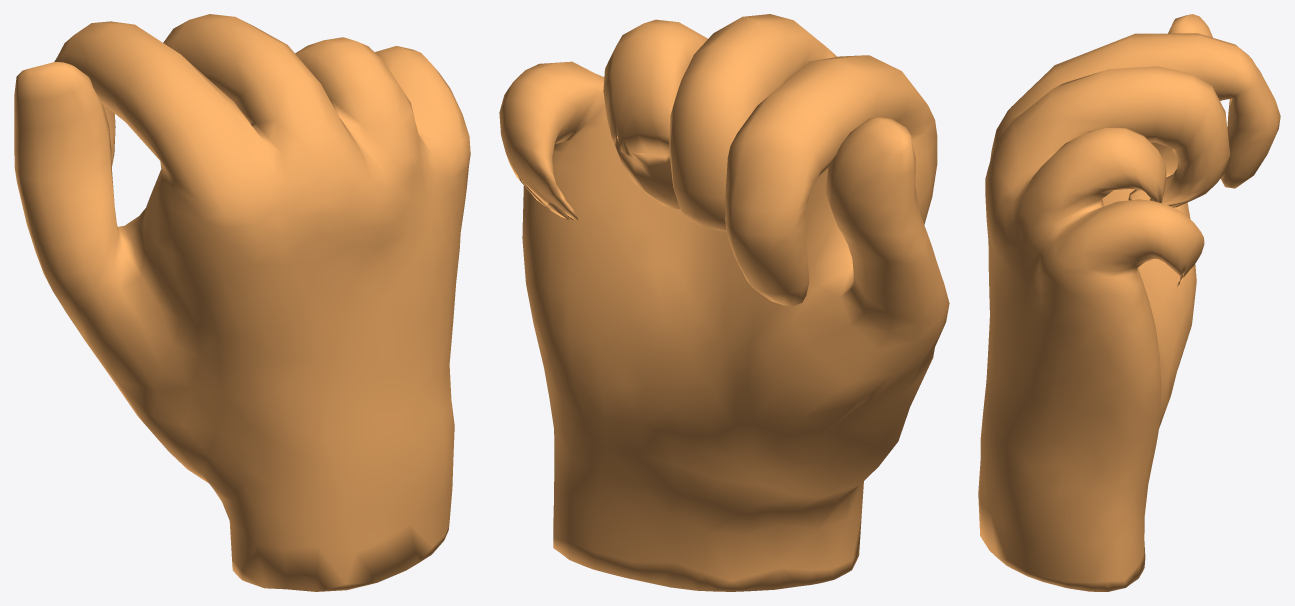
Rendered from rechtsGegriffen.obj.
3 renders of one model, left to right at view 1: azimuth 30°, elevation 25°; view 2: azimuth 150°, elevation 25°; view 3: azimuth 270°, elevation 25°, orthographic. The views are drawn at different scales.
Visible parts, largest first — view 1: rechtsGegriffen; view 2: rechtsGegriffen; view 3: rechtsGegriffen.
Part boxes in pixels (x1,y1,x2,y2): rechtsGegriffen: (14, 14, 470, 591); rechtsGegriffen: (499, 14, 949, 591); rechtsGegriffen: (978, 14, 1280, 591).
Bounding box in the file's own units: 0.2024 × 0.2483 × 0.1533.
